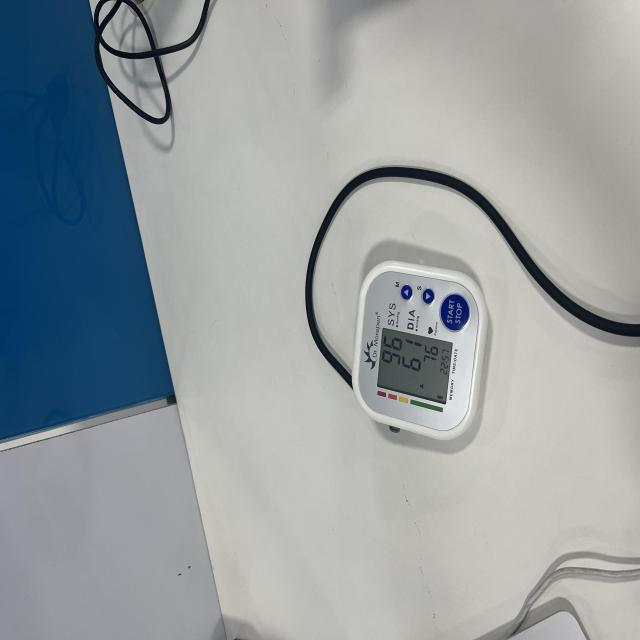bp: (347, 241, 495, 457)
